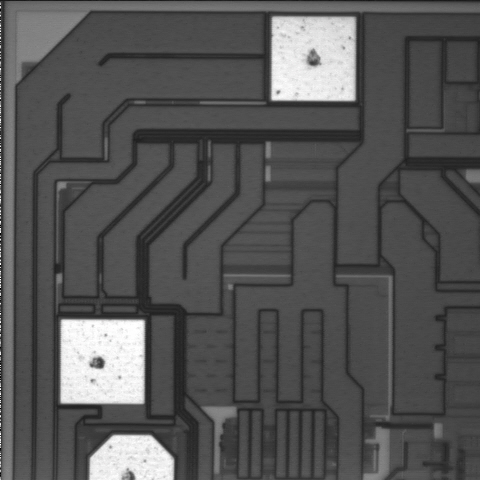pad: (271, 17, 355, 101), (61, 320, 145, 404)
